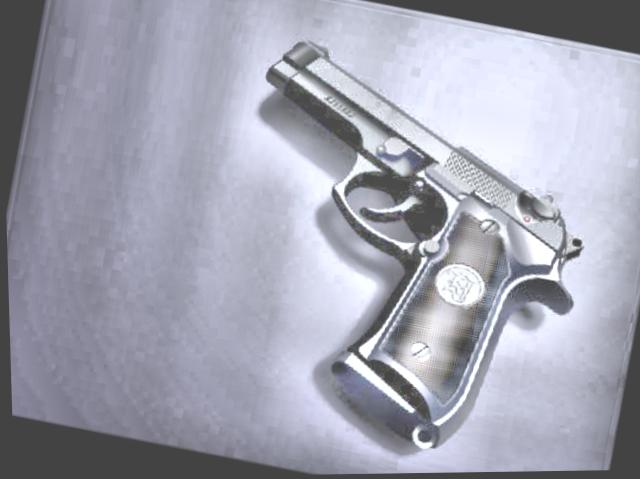pistol: (183, 24, 621, 473)
